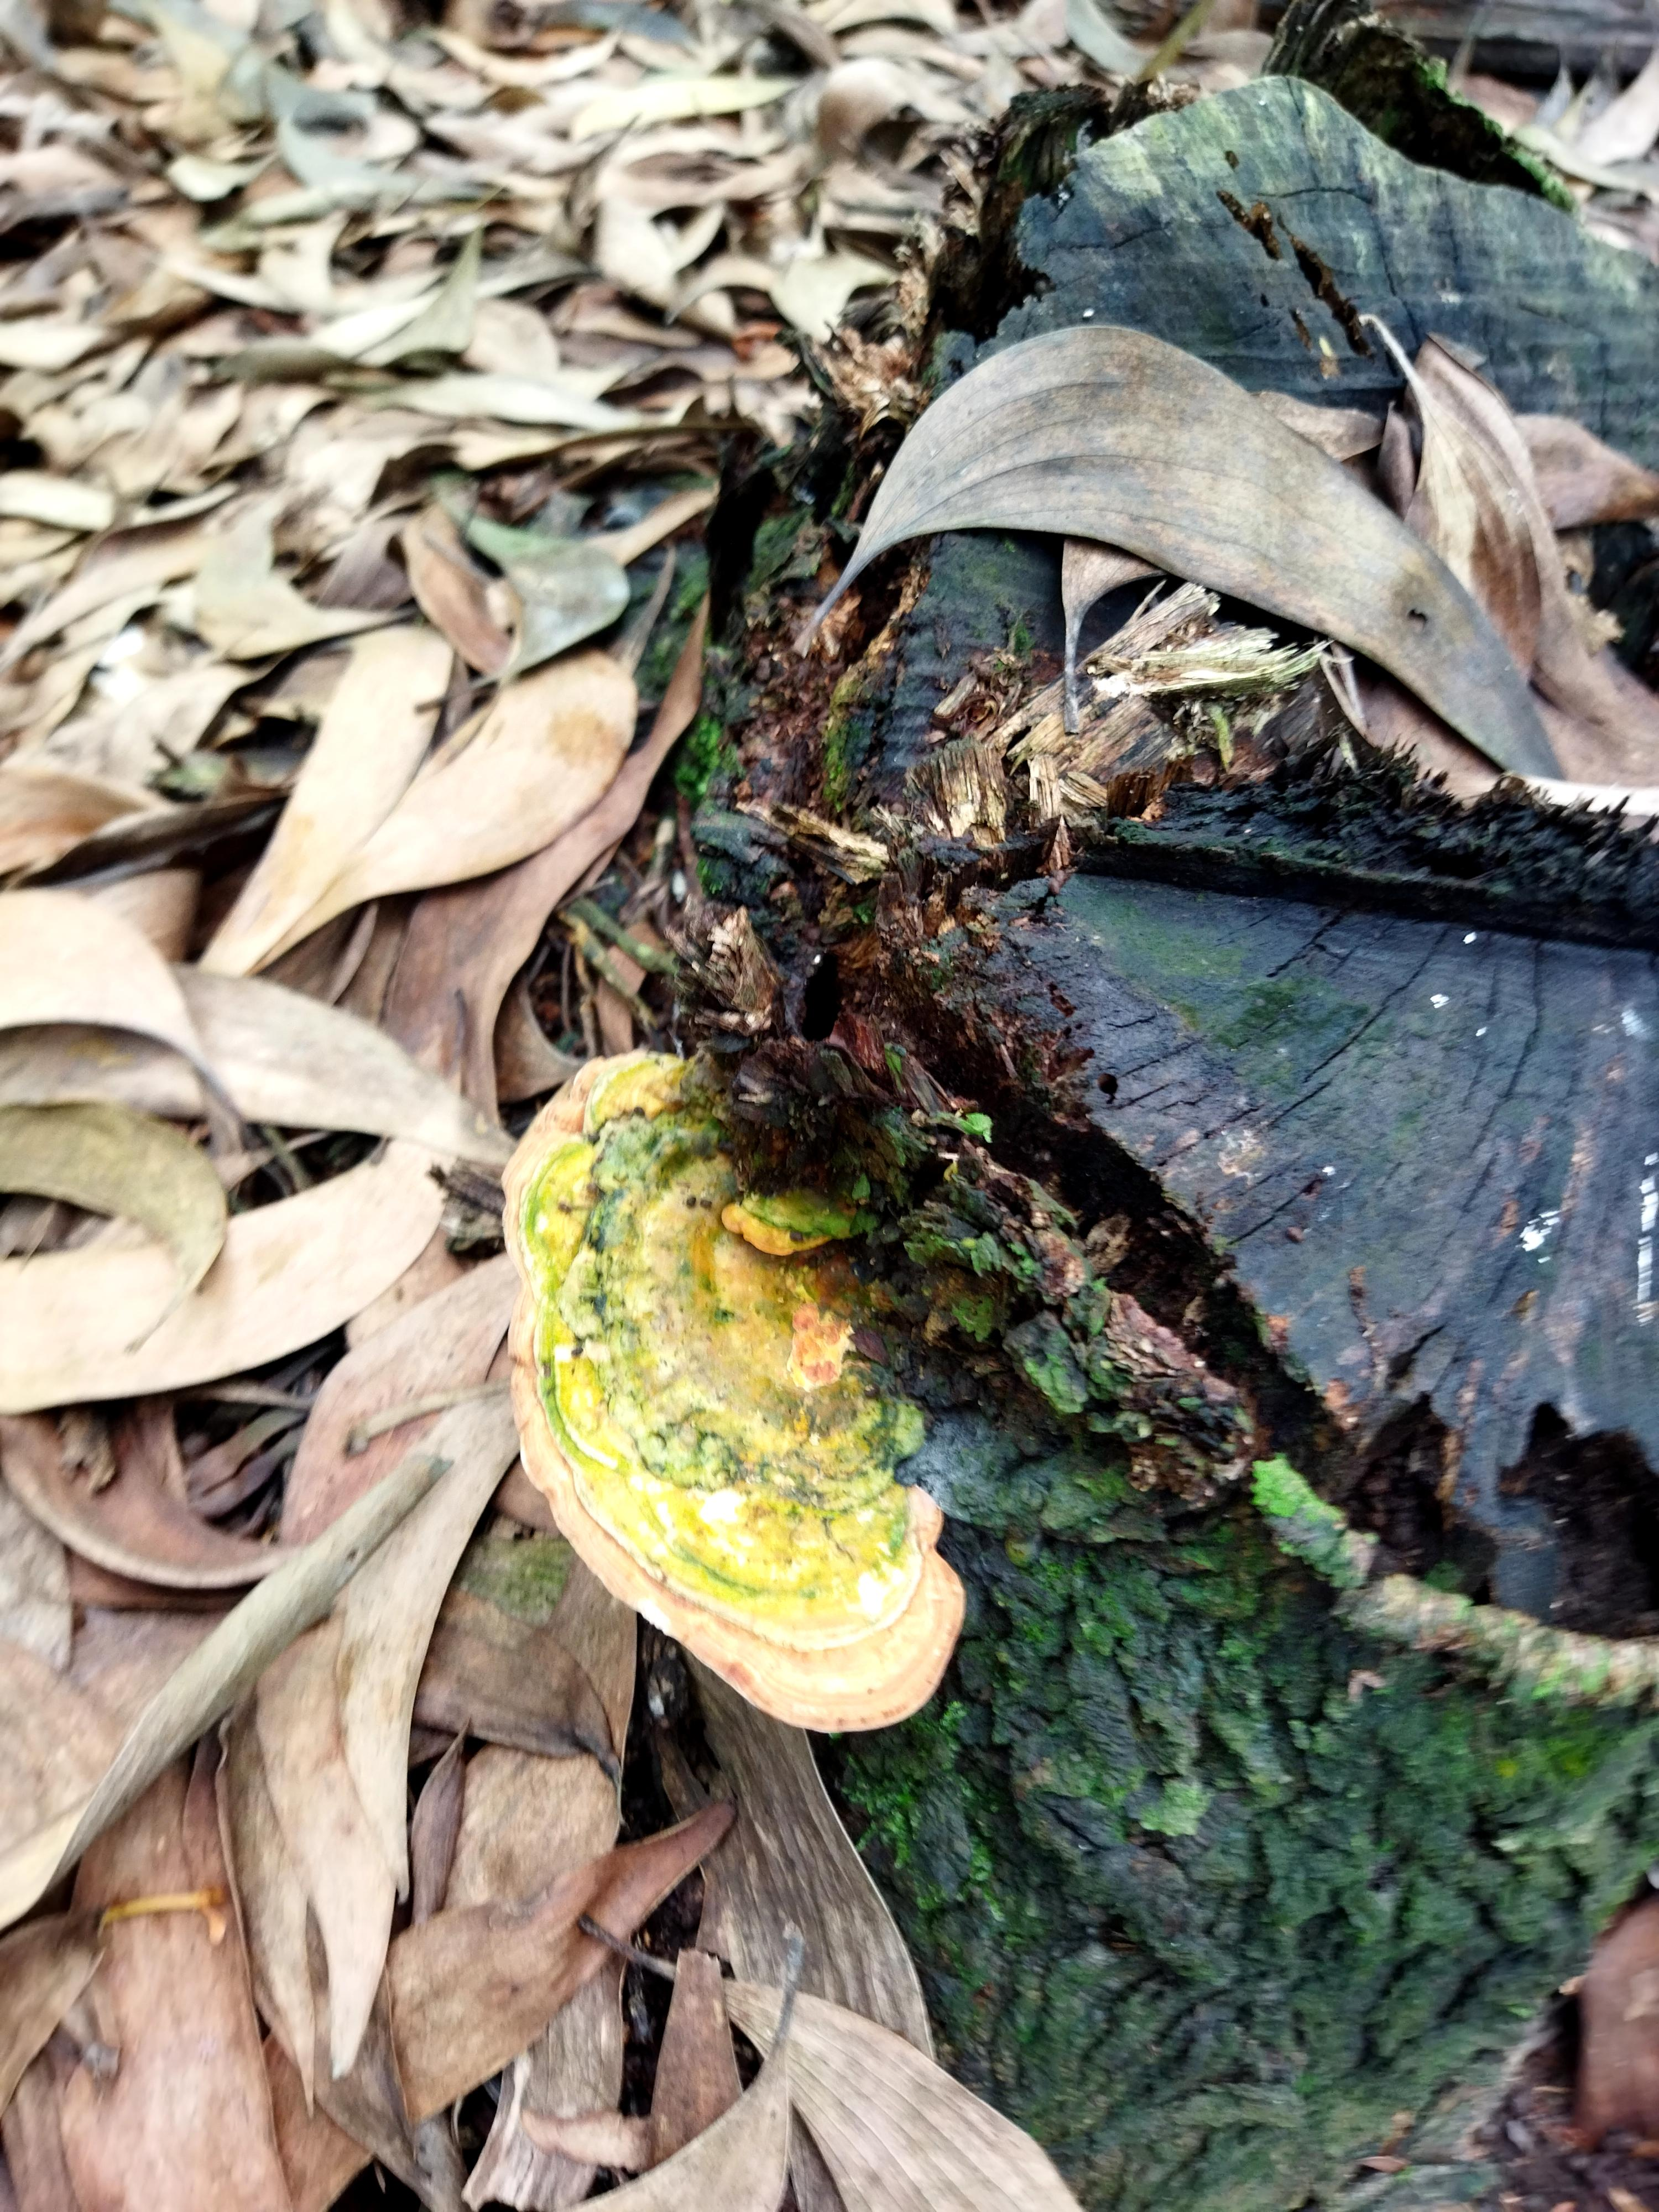Ganoderma - Fruit Body: (493, 1024, 979, 1738)
